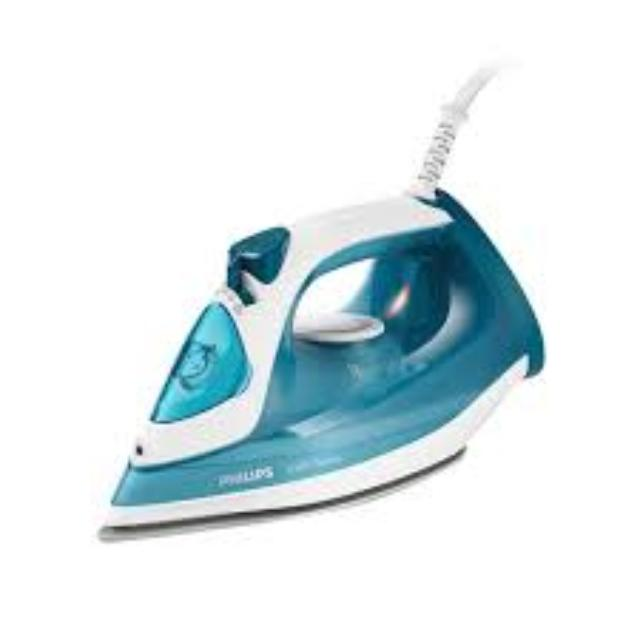Clothes-Iron: (67, 173, 561, 552)
